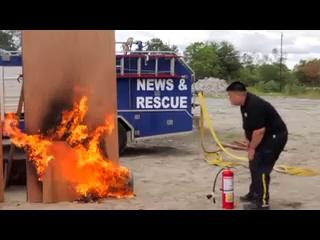Fire: (8, 84, 136, 204)
